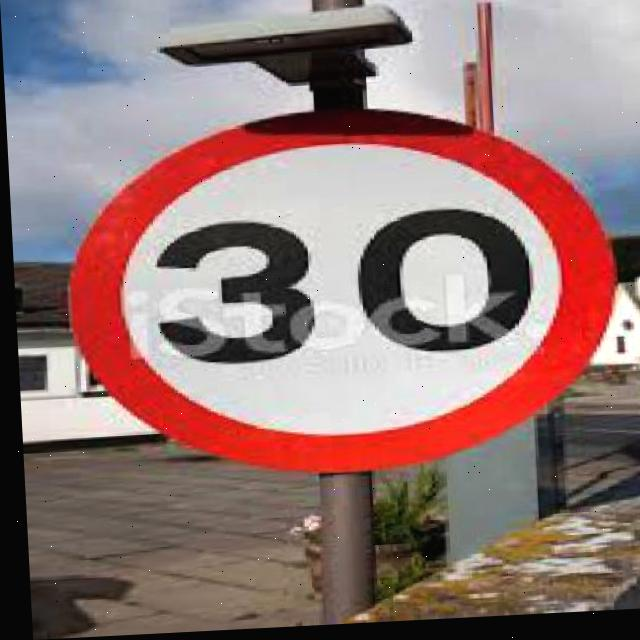Speed limit 30: (55, 96, 624, 491)
